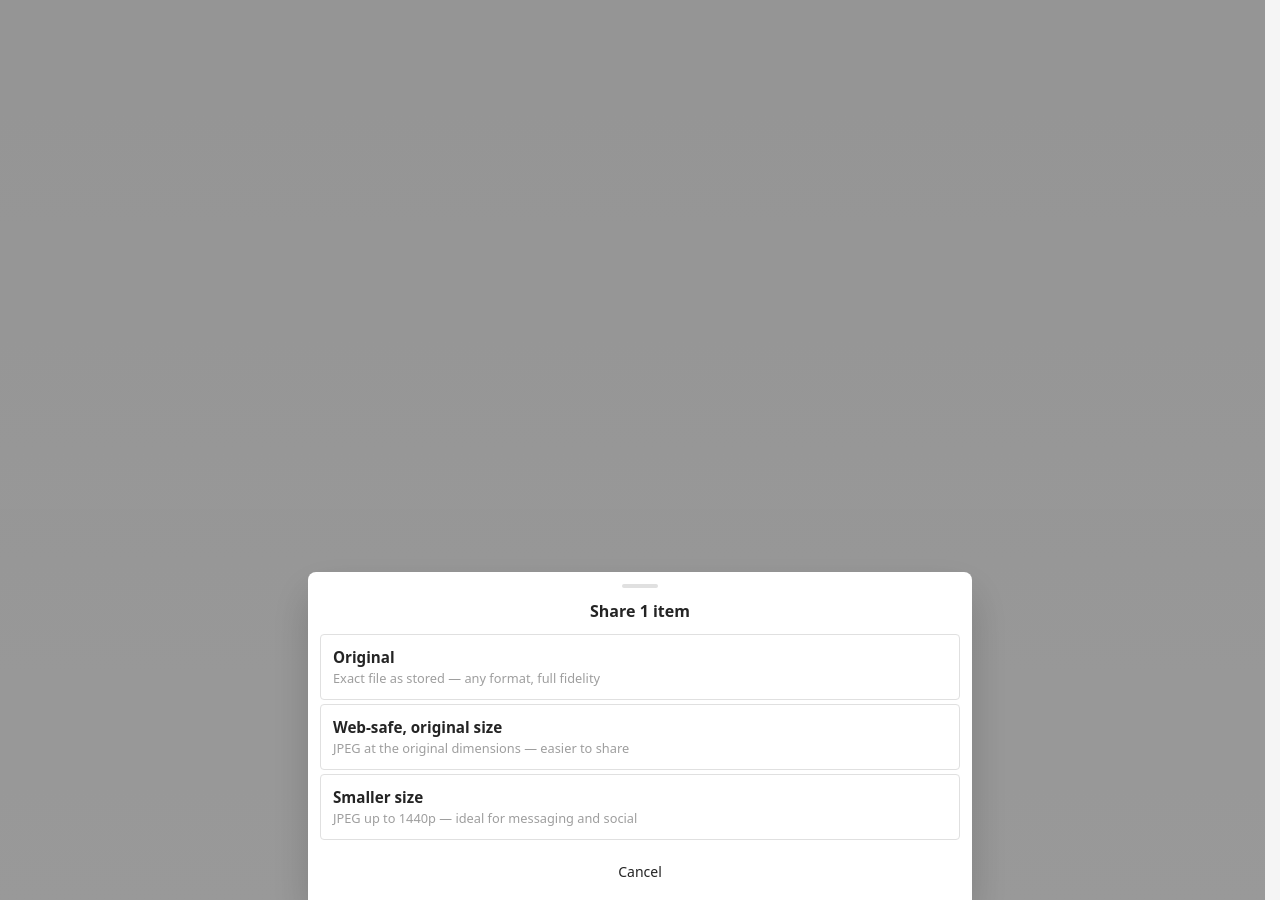
Test: ShareOptionsModal › over the share sheet's limit › catches a single original over 50 MB from its stored size
Click the button "Original Exact file as stored — any format, full fidelity" at (364, 657), box 320,634 -> 960,700
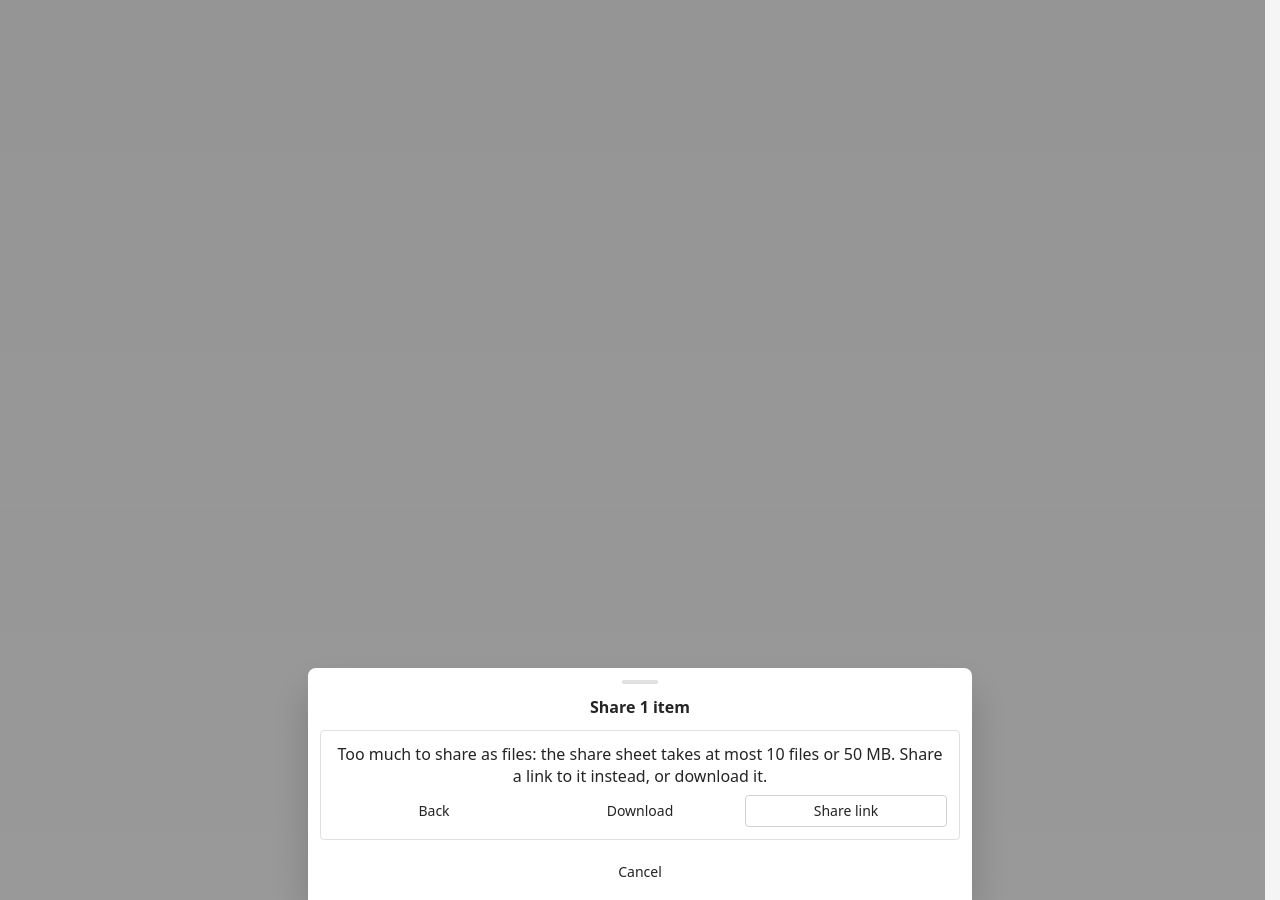
Check: the button "Share link" is shown, box 745,795 -> 947,827
